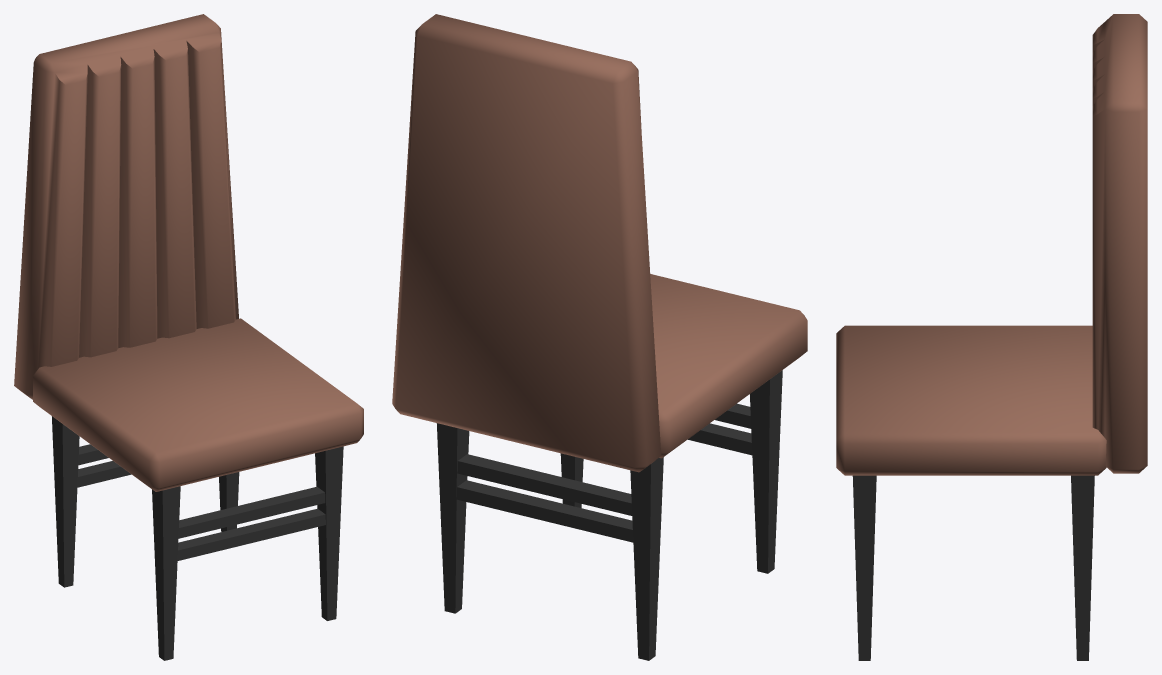
Rendered from chair003.glb.
3 renders of one model, left to right at view 1: azimuth 30°, elevation 25°; view 2: azimuth 150°, elevation 25°; view 3: azimuth 270°, elevation 25°, orthographic. The views are drawn at different scales.
Visible parts, largest first — view 1: chair.003; view 2: chair.003; view 3: chair.003.
Boxes of the visible parts, x1,y1,x2,y2 form: chair.003: [14, 14, 363, 660]; chair.003: [392, 14, 807, 660]; chair.003: [836, 14, 1147, 660].
Bounding box in the file's own units: 0.4341 × 0.9884 × 0.5001.
1 material, 1 textured.
